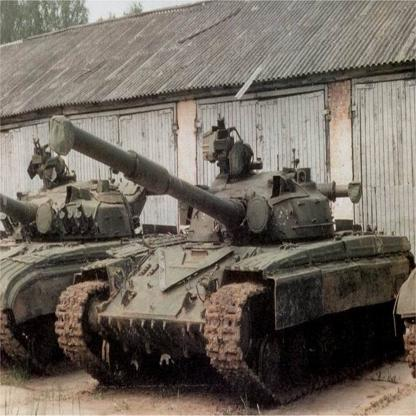Tank: (53, 117, 411, 404), (1, 138, 185, 386)
